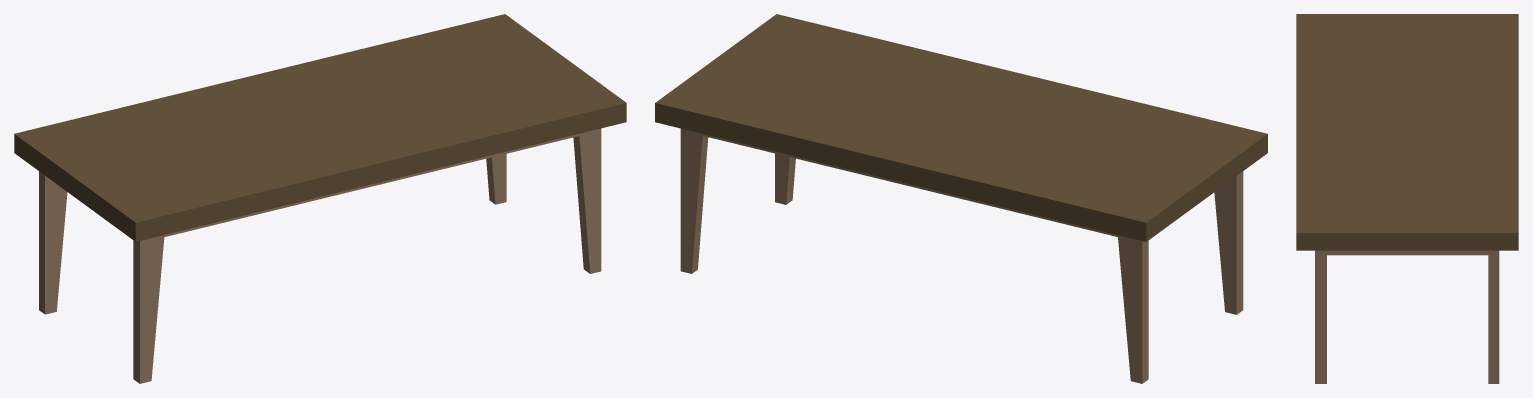
Rendered from Big Table.fbx.
3 renders of one model, left to right at view 1: azimuth 30°, elevation 25°; view 2: azimuth 150°, elevation 25°; view 3: azimuth 270°, elevation 25°, orthographic. The views are drawn at different scales.
Parts seen in each view (by area): view 1: Big Table; view 2: Big Table; view 3: Big Table.
Part boxes in pixels (box(x1,y1,x2,y2)): Big Table: box(14, 14, 626, 383); Big Table: box(655, 14, 1267, 383); Big Table: box(1296, 14, 1518, 383).
Bounding box in the file's own units: 315 × 106 × 135.
